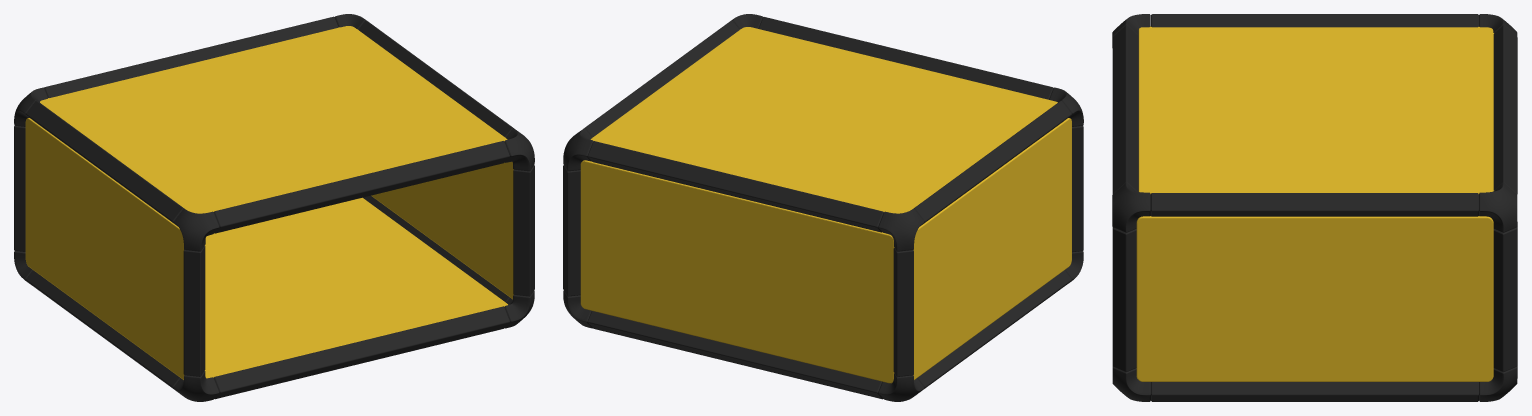
The picture shows the model from 3 angles, left to right: view 1: azimuth 30°, elevation 25°; view 2: azimuth 150°, elevation 25°; view 3: azimuth 270°, elevation 25°; orthographic projection. The views are drawn at different scales.
Parts seen in each view (by area): view 1: 374x329x154; view 2: 374x329x154; view 3: 374x329x154.
Boxes of the visible parts, bbox=[...] form: 374x329x154: bbox=[14, 14, 534, 401]; 374x329x154: bbox=[563, 14, 1083, 401]; 374x329x154: bbox=[1112, 14, 1517, 401].
Bounding box in the file's own units: 0.4517 × 0.2316 × 0.4063.
